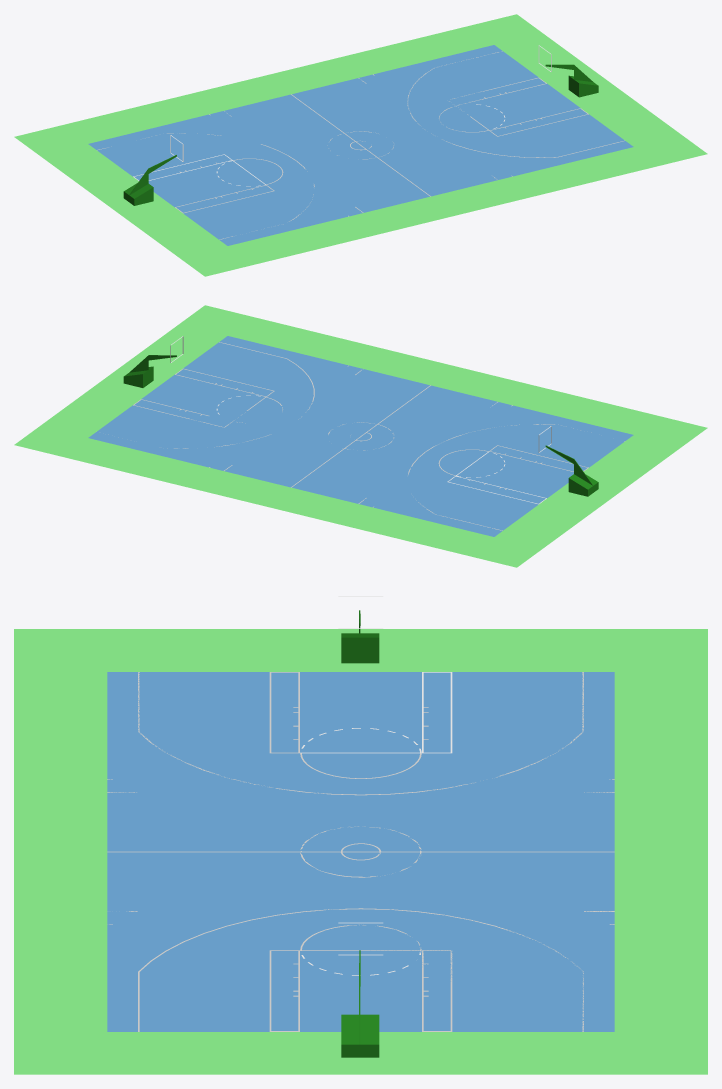
File: lanqiuchang1.fbx
3 views of the same model, one above another, from view 1: azimuth 30°, elevation 25°; view 2: azimuth 150°, elevation 25°; view 3: azimuth 270°, elevation 25° (orthographic). The views are drawn at different scales.
Visible parts, largest first — view 1: Model; view 2: Model; view 3: Model.
Boxes of the visible parts, x1,y1,x2,y2 form: Model: [14, 14, 707, 276]; Model: [14, 305, 707, 567]; Model: [14, 596, 707, 1074].
Bounding box in the file's own units: 20.72 × 2 × 13.63.
